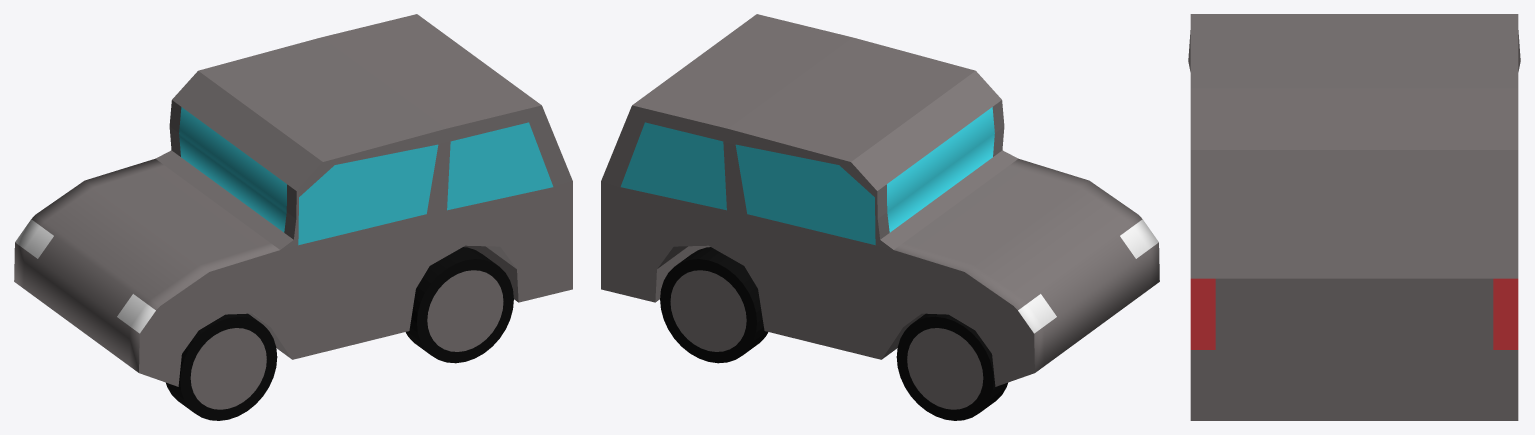
Rendered from car2_fbx.fbx.
3 views of the same model, side by side, from view 1: azimuth 30°, elevation 25°; view 2: azimuth 150°, elevation 25°; view 3: azimuth 270°, elevation 25° (orthographic). The views are drawn at different scales.
Parts seen in each view (by area): view 1: Cube; view 2: Cube; view 3: Cube.
Boxes of the visible parts, left/top/right/bottom form: Cube: left=14, top=14, right=572, bottom=420; Cube: left=601, top=14, right=1159, bottom=420; Cube: left=1188, top=14, right=1520, bottom=420.
Bounding box in the file's own units: 281 × 147 × 142.
